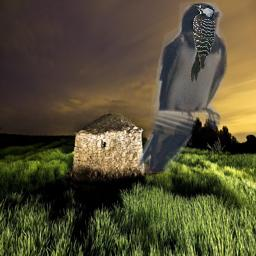Swallow: (137, 2, 227, 173)
Woodpecker: (189, 2, 217, 82)
